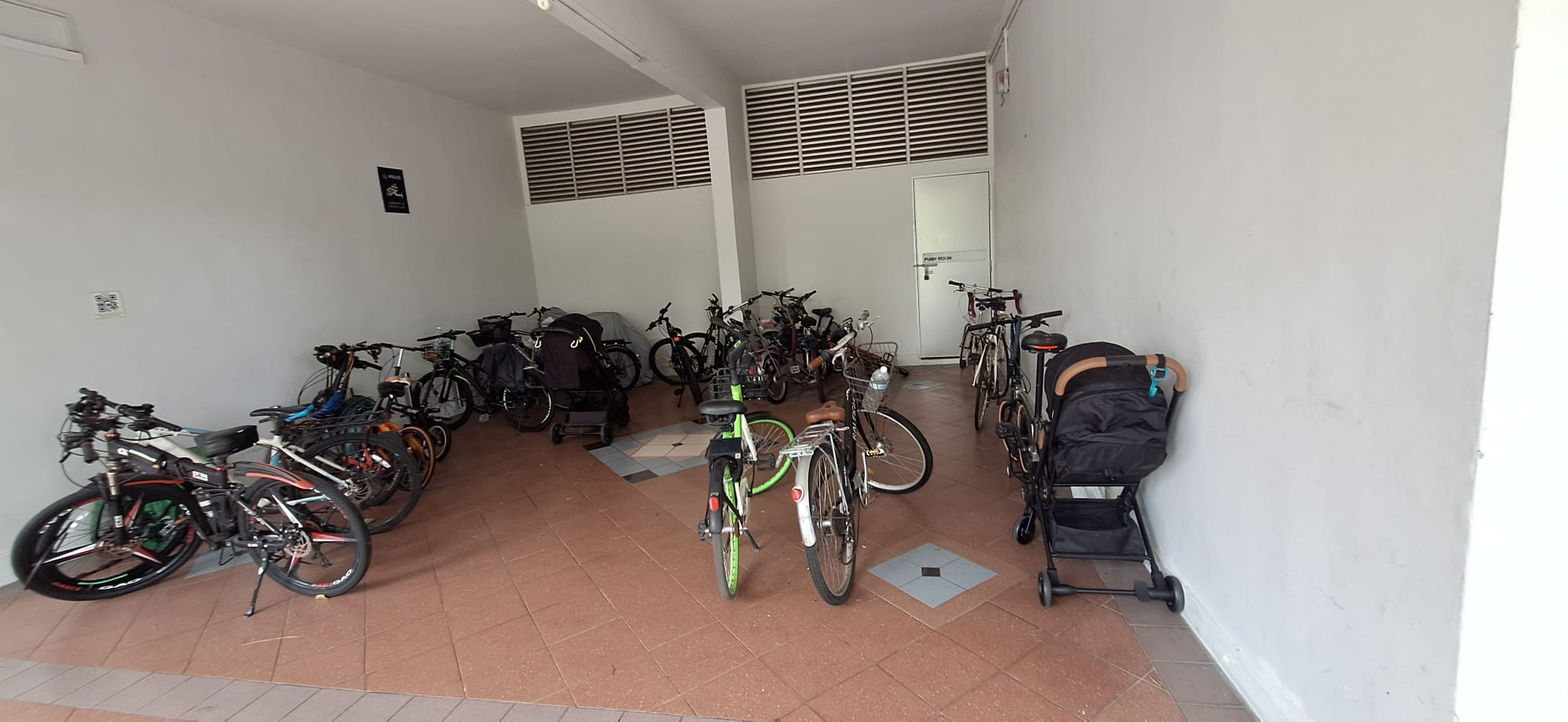vehicle: (13, 388, 372, 616), (1014, 342, 1187, 611), (780, 311, 932, 605), (697, 341, 793, 598), (535, 314, 629, 443)
